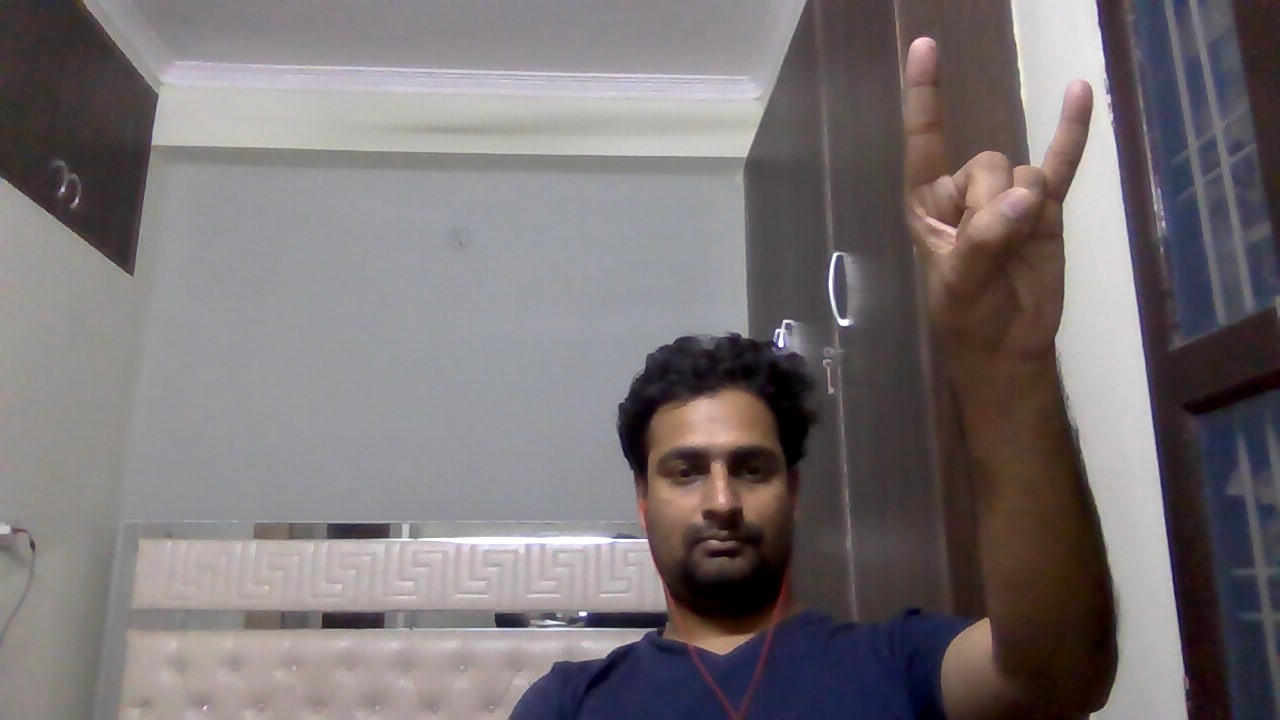Select All: (887, 30, 1103, 367)
